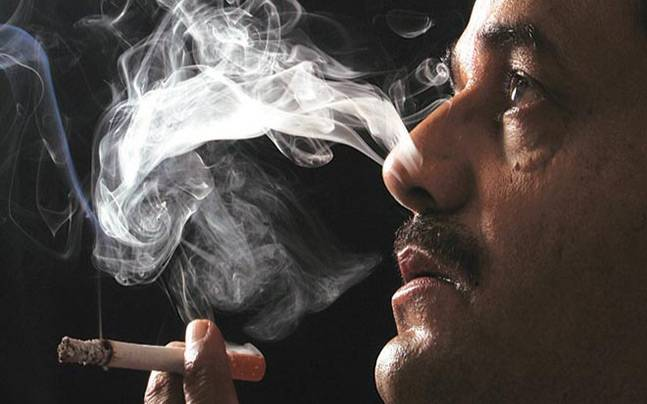cigarette: (46, 334, 271, 383)
